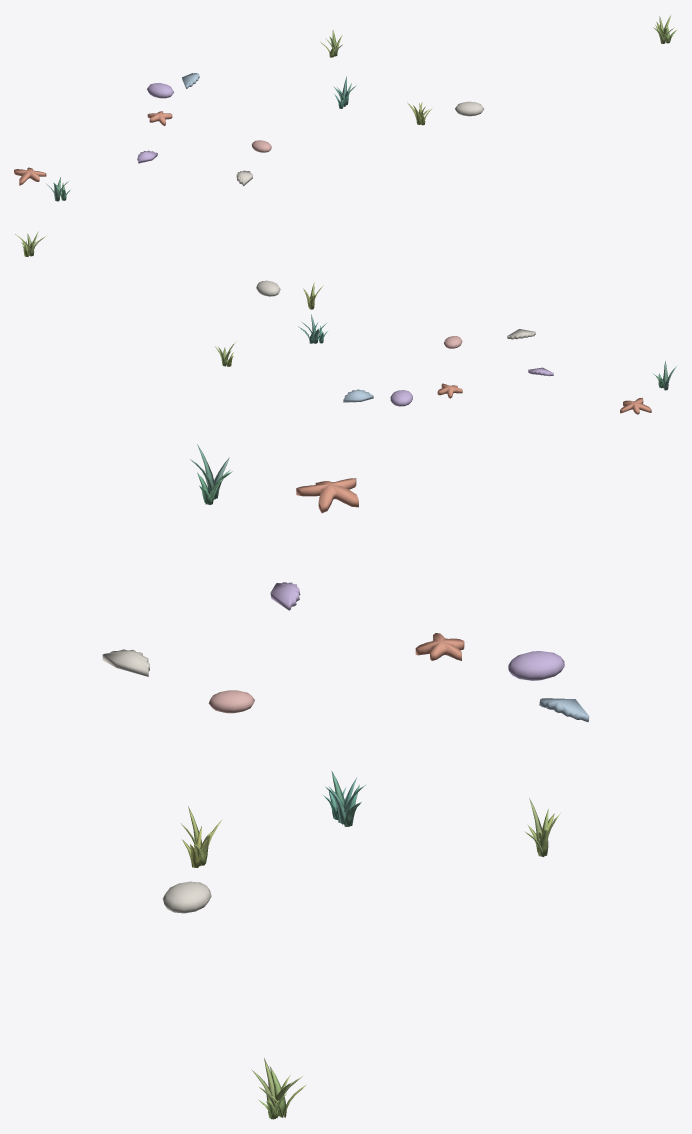
File: W2_FloraRing_9_12.fbx
The picture shows the model from 3 angles, top to bottom: view 1: azimuth 30°, elevation 25°; view 2: azimuth 150°, elevation 25°; view 3: azimuth 270°, elevation 25°; orthographic projection. The views are drawn at different scales.
Parts seen in each view (by area): view 1: W2_FloraRing_9_12; view 2: W2_FloraRing_9_12; view 3: W2_FloraRing_9_12.
Part boxes in pixels (x1,y1,x2,y2): W2_FloraRing_9_12: (14, 15, 677, 201); W2_FloraRing_9_12: (15, 231, 677, 414); W2_FloraRing_9_12: (102, 444, 589, 1119).
Size of the model in its own units: 3.55 by 0.17 by 1.16.
